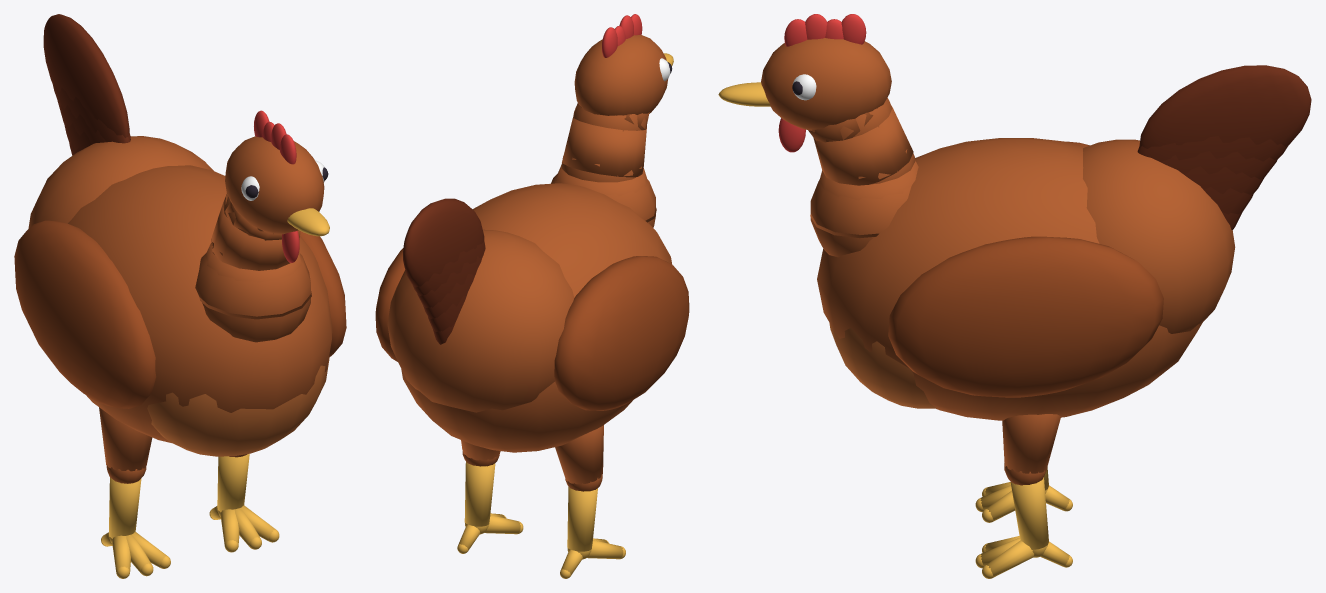
Rendered from chicken.glb.
3 renders of one model, left to right at view 1: azimuth 30°, elevation 25°; view 2: azimuth 150°, elevation 25°; view 3: azimuth 270°, elevation 25°, orthographic. The views are drawn at different scales.
Visible parts, largest first — view 1: body, neckp, head, shinR, shinL, legR; view 2: body, neckp, head, shinL, shinR, legR, legL; view 3: body, head, neckp, shinL, legL, shinR.
Part boxes in pixels (x1,y1,x2,y2): body: (14, 14, 346, 456); neckp: (195, 194, 311, 342); head: (225, 110, 329, 262); shinR: (101, 477, 170, 578); shinL: (209, 454, 279, 552); legR: (99, 407, 152, 483); body: (375, 183, 689, 452); neckp: (551, 103, 656, 227); head: (574, 14, 673, 115); shinL: (457, 461, 523, 553); shinR: (560, 486, 625, 578); legR: (555, 425, 603, 491); legL: (461, 440, 500, 466); body: (817, 65, 1311, 420); head: (718, 14, 891, 152); neckp: (808, 98, 918, 257); shinL: (975, 477, 1072, 578); legL: (1002, 414, 1060, 485); shinR: (975, 467, 1072, 522).
Size of the model in its own units: 0.6573 by 1.22 by 1.25.
